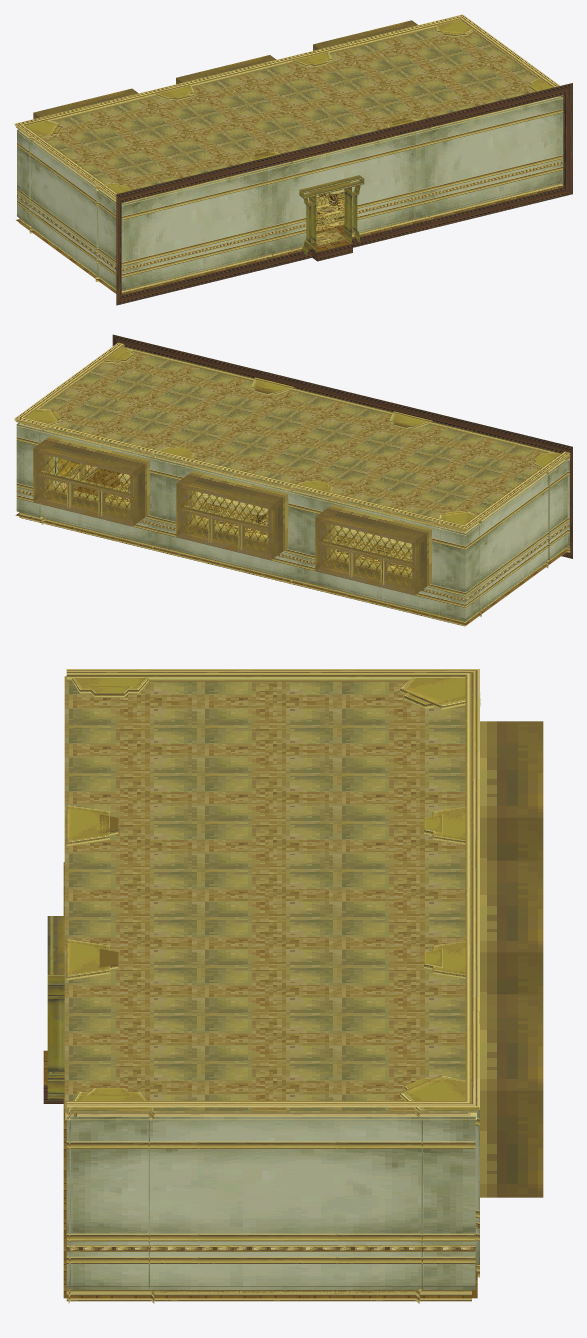
Rendered from room_47.glb.
3 renders of one model, top to bottom at view 1: azimuth 30°, elevation 25°; view 2: azimuth 150°, elevation 25°; view 3: azimuth 270°, elevation 25°, orthographic. The views are drawn at different scales.
Parts seen in each view (by area): view 1: room_47; view 2: room_47; view 3: room_47.
Boxes of the visible parts, <box> form: room_47: <box>14,14,572,305</box>; room_47: <box>14,334,572,626</box>; room_47: <box>43,669,543,1303</box>.
Size of the model in its own units: 2575 by 600 by 1220.
32 materials, 32 textured.
